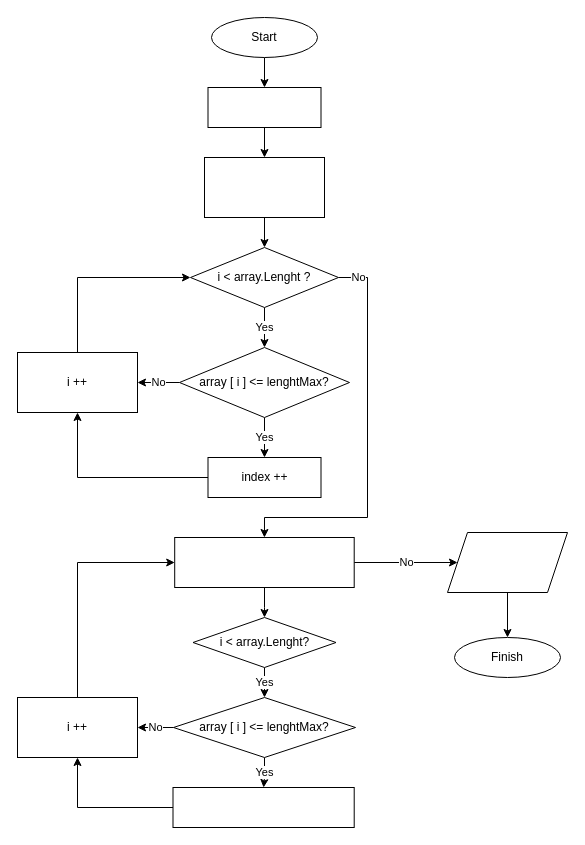
Some shapes in this 585 by 845 pixel diagram are drawn without their labels. The shapes that lost their labels are listed below. From the top down, each one's centre as x and y in pixels, then its label:
At (x=264, y=107): "Ввод массива строк (array)".
At (x=264, y=187): "lengthMax = 3 i = 0 index = 0".
At (x=264, y=562): "newArray = newArray [ index ] i = 0 res = 0".
At (x=507, y=562): "Print (newArray)".
At (x=263, y=807): "newArray [res] = array [ i ] res ++".
